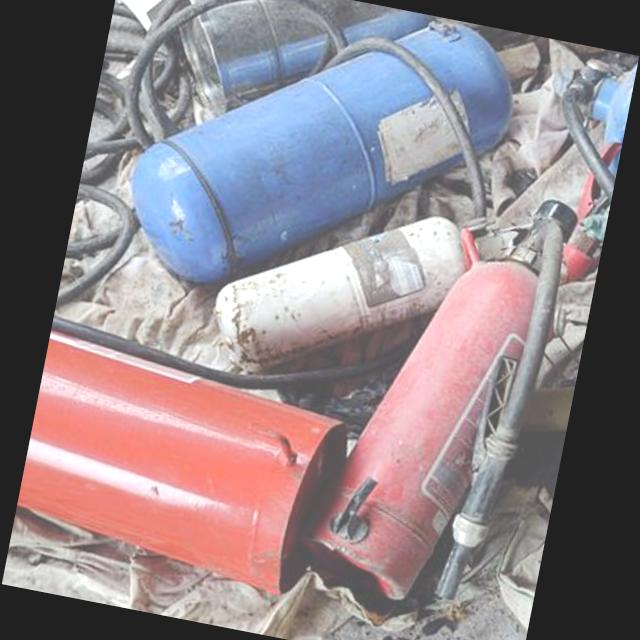Cylinders: (125, 19, 520, 282), (211, 224, 463, 367)
